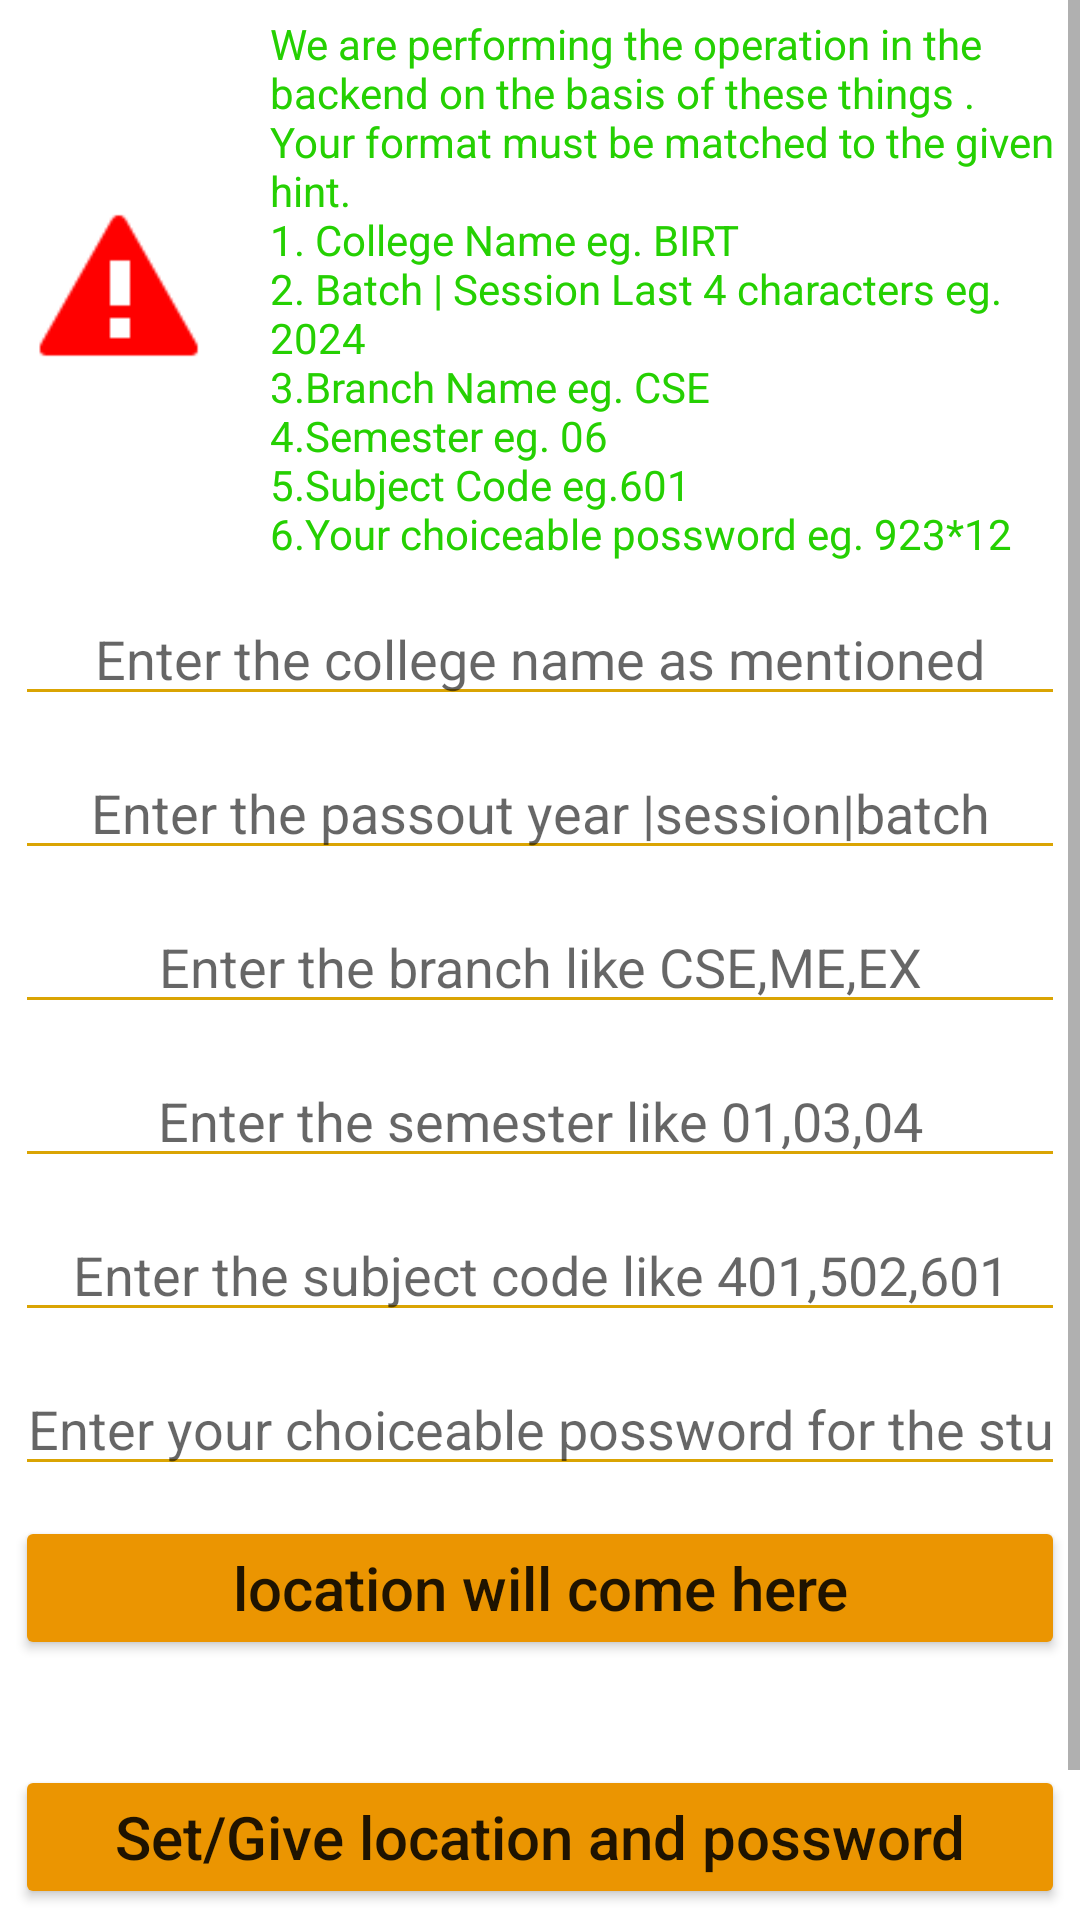

Screen size 1080w x 1920h. Icon name, then its center in pixels as [x,y]:
warning: [119,285]
